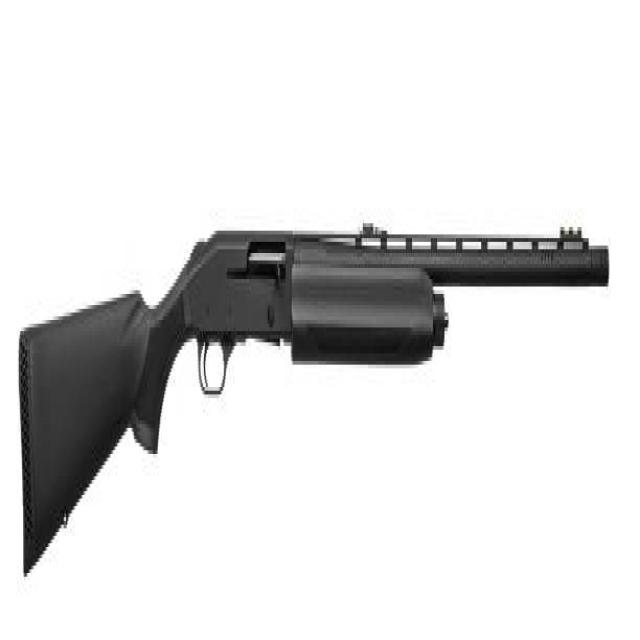rifle: (19, 204, 612, 588)
